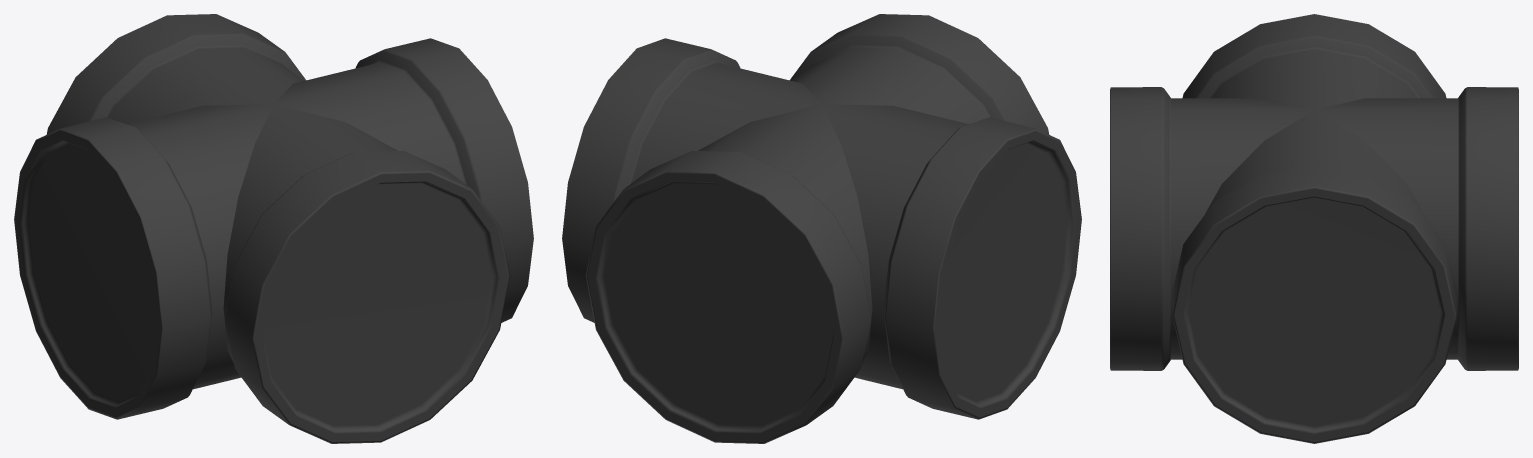
File: colony_Cross_section.glb
3 renders of one model, left to right at view 1: azimuth 30°, elevation 25°; view 2: azimuth 150°, elevation 25°; view 3: azimuth 270°, elevation 25°, orthographic. The views are drawn at different scales.
Visible parts, largest first — view 1: Cross_section; view 2: Cross_section; view 3: Cross_section.
Part boxes in pixels (x1,y1,x2,y2): Cross_section: (14, 14, 533, 443); Cross_section: (562, 14, 1081, 443); Cross_section: (1110, 14, 1518, 443).
Size of the model in its own units: 395 by 276 by 395.
1 material, 1 textured.
